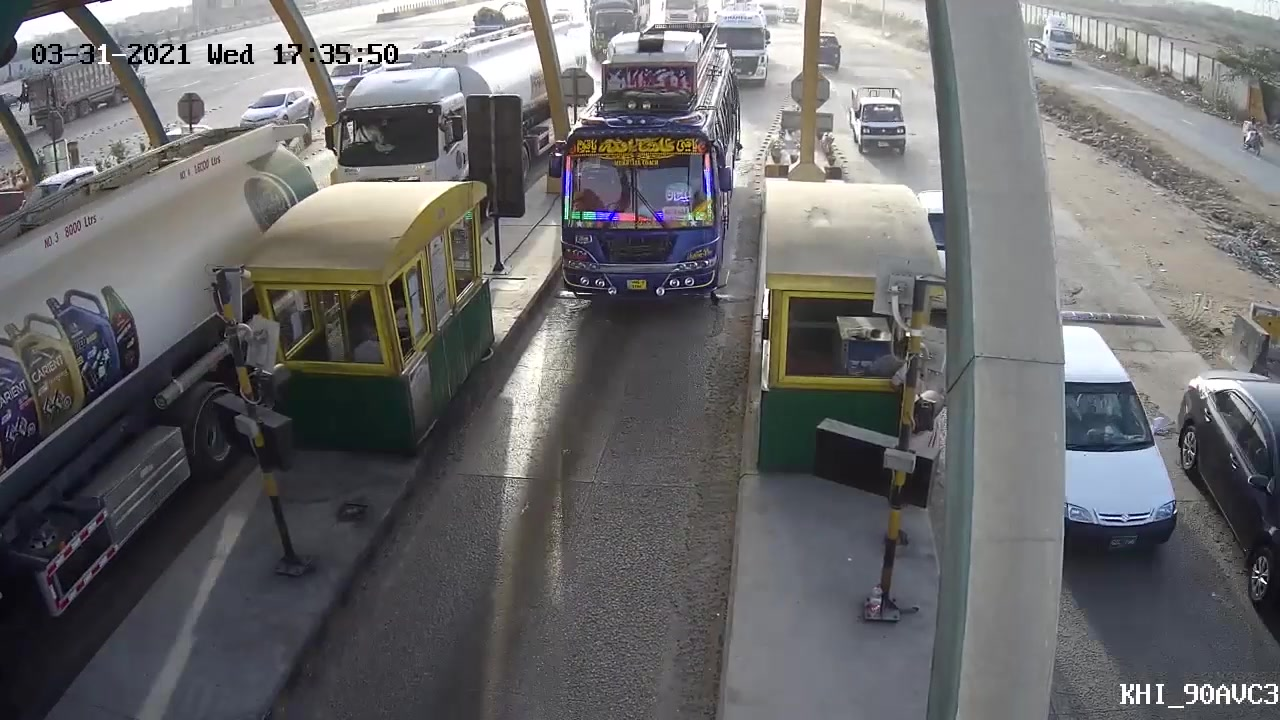F4: (538, 42, 744, 308)
